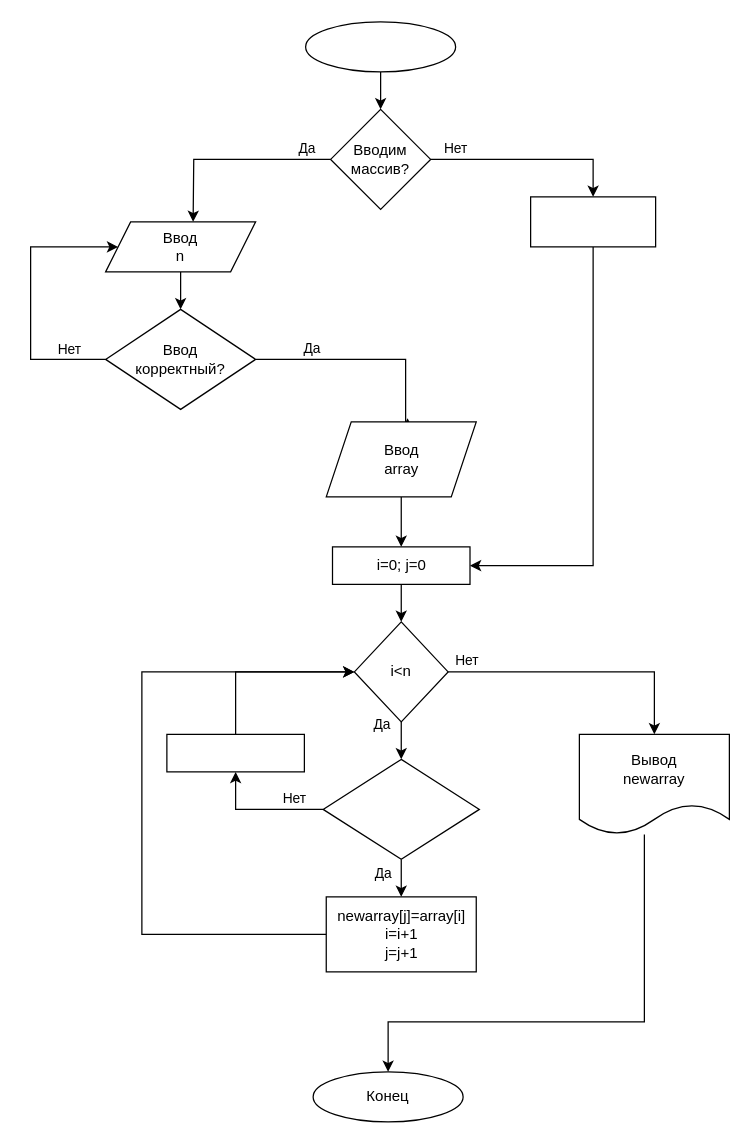
The diagram is 751 pixels wide and 1144 high, and some of its shapes have lost their labels. Here are the shapes that lost their labels. From the top down, the box of each, then its label:
(304, 21, 456, 72): Начало
(529, 196, 656, 247): array, n
(166, 733, 304, 772): i=i+1
(322, 758, 479, 859): Длина строки array[i]<=3
